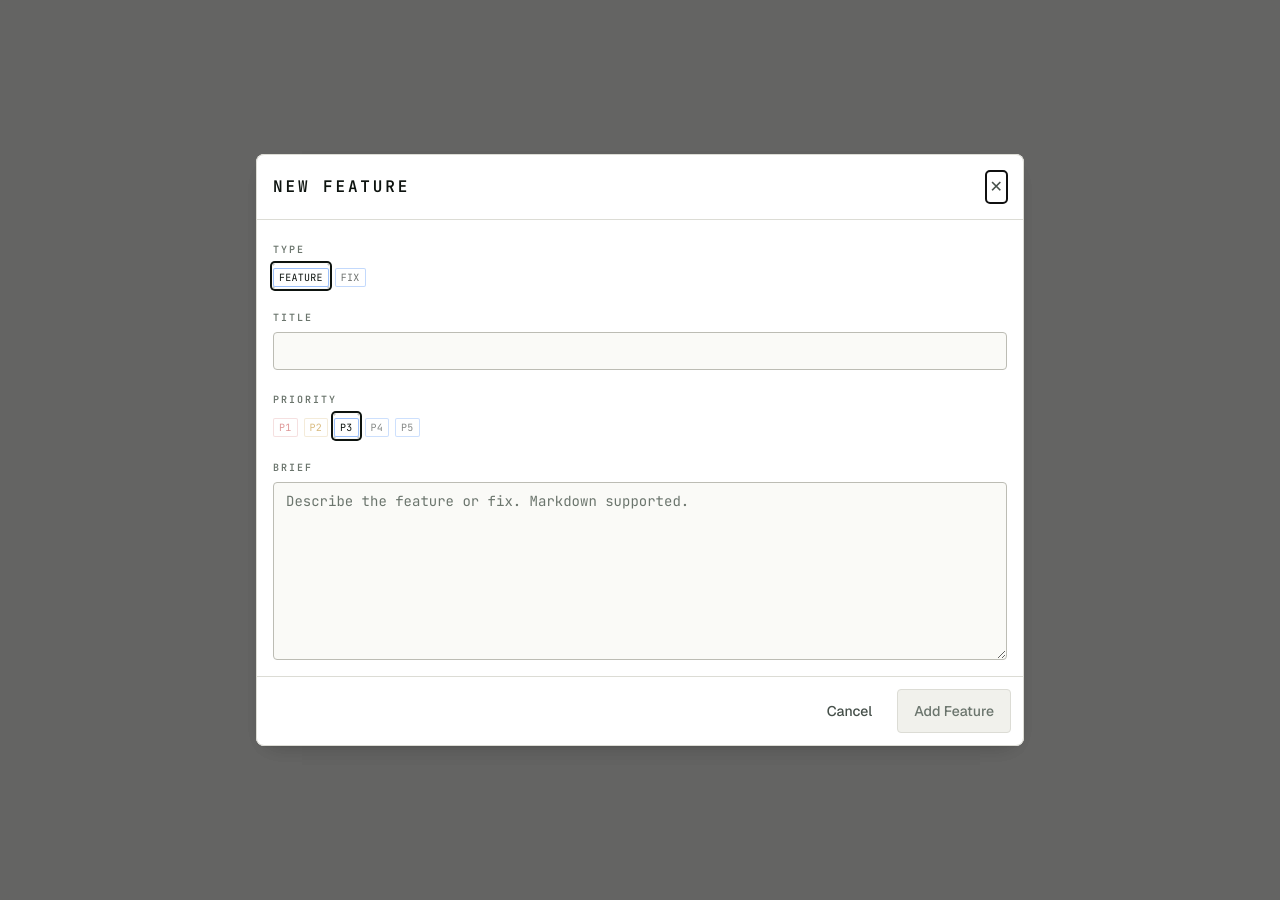
Test case: FeatureForm — form submission › submit button enabled after typing a title
In the field labelled "Title": (640, 351) [273,332,1007,370], type "My feature"
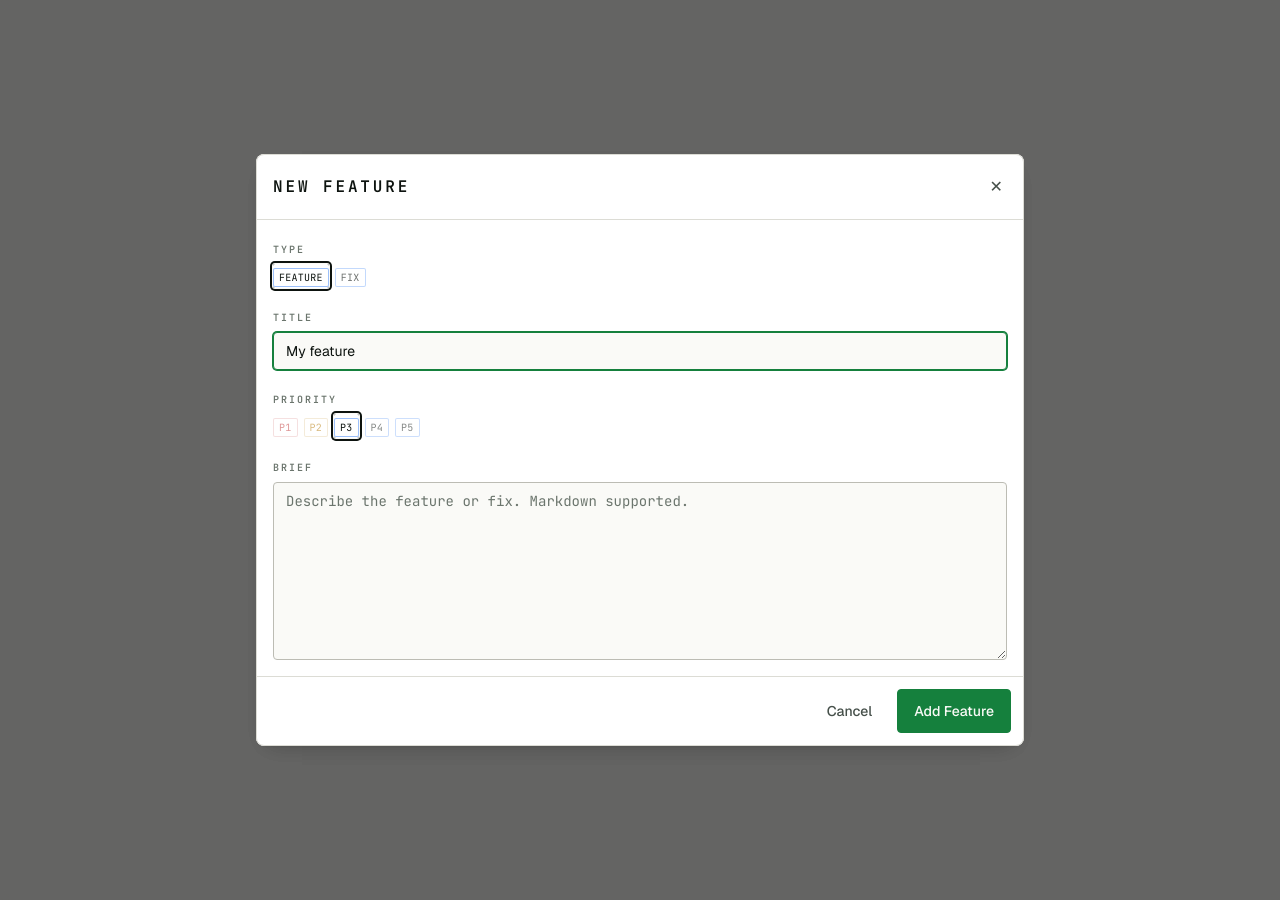
Expected: the button "Add Feature" is enabled, [897,689,1011,733]
